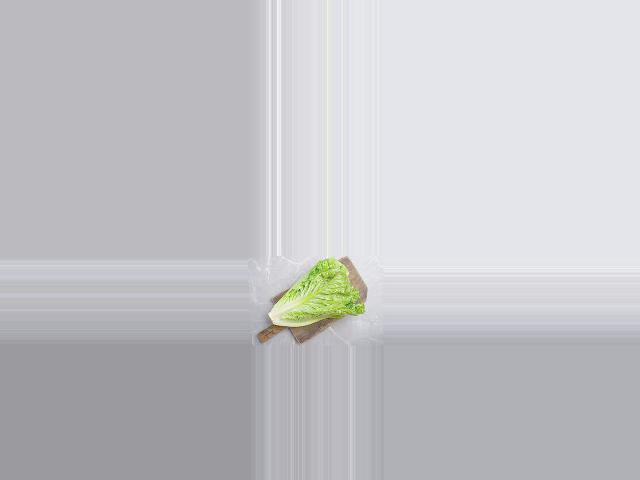lettuce: (264, 258, 364, 337)
